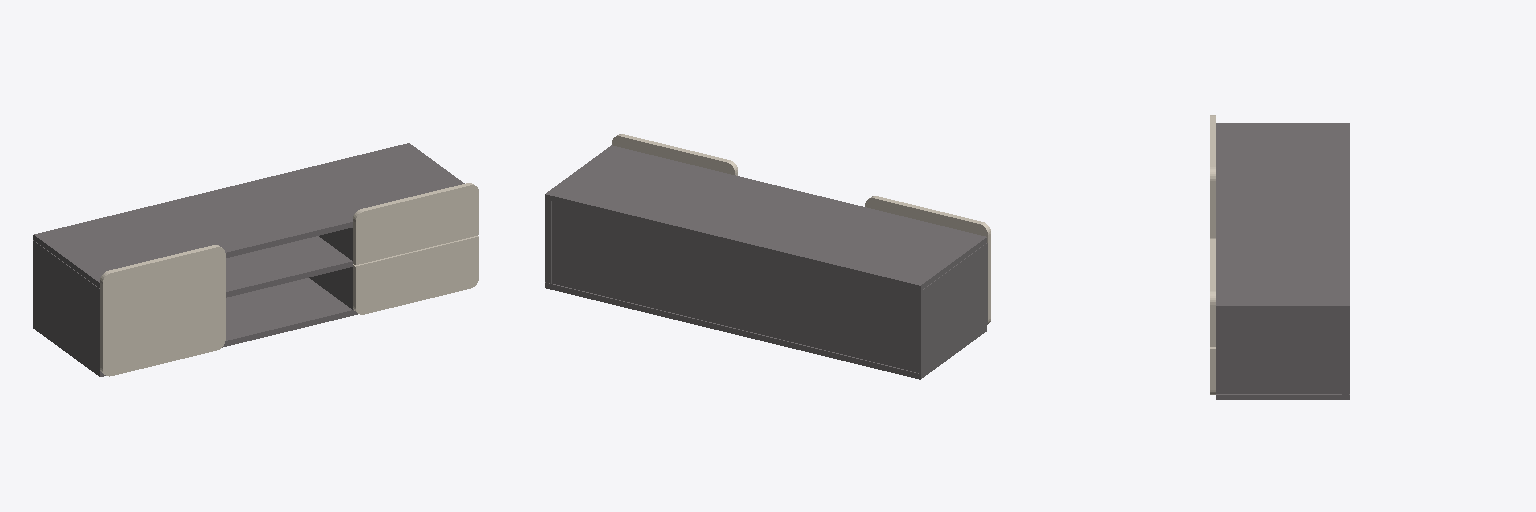
File: 2pir_szafka_rtv_140.obj
3 renders of one model, left to right at view 1: azimuth 30°, elevation 25°; view 2: azimuth 150°, elevation 25°; view 3: azimuth 270°, elevation 25°, orthographic.
Visible parts, largest first — view 1: Box04, Rectangle12, Rectangle13, Box02, Box06, Box03, Box08; view 2: Box09, Box04, Box06, Box02, Rectangle13, Rectangle12; view 3: Box04, Box05, Rectangle12, Box02, Rectangle13, Box09.
Boxes of the visible parts, x1=… form: Box04: x1=33, y1=143, x2=464, y2=287; Rectangle12: x1=353, y1=183, x2=478, y2=314; Rectangle13: x1=100, y1=245, x2=225, y2=376; Box02: x1=33, y1=278, x2=357, y2=376; Box06: x1=33, y1=240, x2=100, y2=371; Box03: x1=226, y1=236, x2=352, y2=297; Box08: x1=309, y1=228, x2=353, y2=309; Box09: x1=545, y1=200, x2=915, y2=371; Box04: x1=545, y1=145, x2=986, y2=290; Box06: x1=916, y1=243, x2=987, y2=373; Box02: x1=545, y1=282, x2=986, y2=379; Rectangle13: x1=865, y1=196, x2=990, y2=323; Rectangle12: x1=612, y1=134, x2=737, y2=175; Box04: x1=1216, y1=123, x2=1349, y2=311; Box05: x1=1216, y1=312, x2=1349, y2=393; Rectangle12: x1=1210, y1=238, x2=1215, y2=394; Box02: x1=1216, y1=394, x2=1349, y2=399; Rectangle13: x1=1210, y1=115, x2=1215, y2=237; Box09: x1=1342, y1=309, x2=1348, y2=398.
Bounding box in the file's own units: 140 × 37.21 × 45.04.